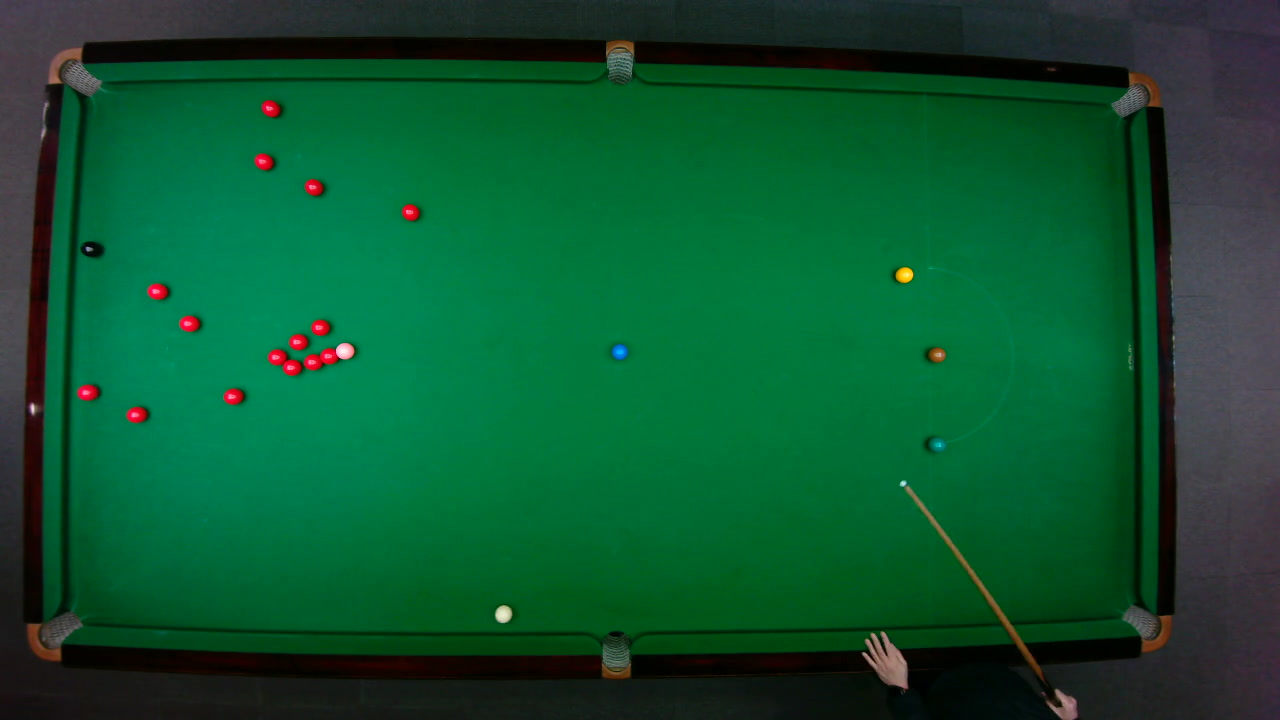bag: (25, 609, 83, 661), (45, 46, 102, 97), (1119, 603, 1172, 652), (1108, 71, 1161, 118), (600, 629, 630, 680), (605, 38, 633, 85)
black: (78, 240, 100, 257)
blue: (610, 342, 628, 360)
brown: (926, 346, 945, 362)
cue: (896, 478, 1072, 718)
green: (926, 435, 946, 452)
pink: (334, 341, 355, 360)
red: (145, 281, 169, 300), (124, 404, 148, 423), (176, 314, 200, 332), (75, 382, 99, 400), (222, 386, 244, 405), (303, 177, 324, 196), (260, 98, 281, 117), (252, 152, 274, 170), (302, 352, 324, 370), (400, 202, 420, 221), (281, 358, 302, 376), (287, 332, 308, 350), (265, 348, 287, 365), (309, 318, 330, 335), (319, 346, 337, 365)
white: (493, 603, 512, 623)
yellow: (894, 265, 914, 283)
zone: (926, 265, 1013, 445)
